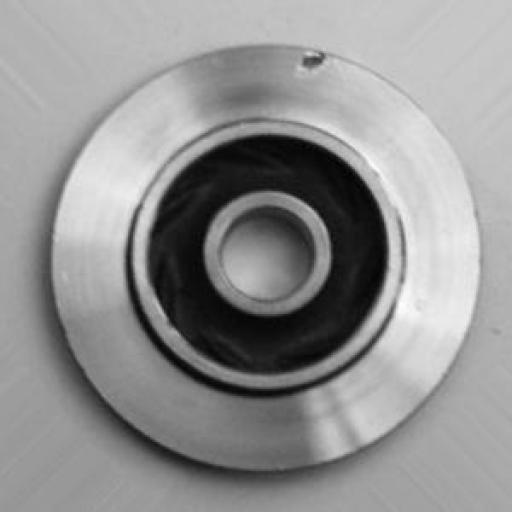defect: (269, 27, 357, 103)
